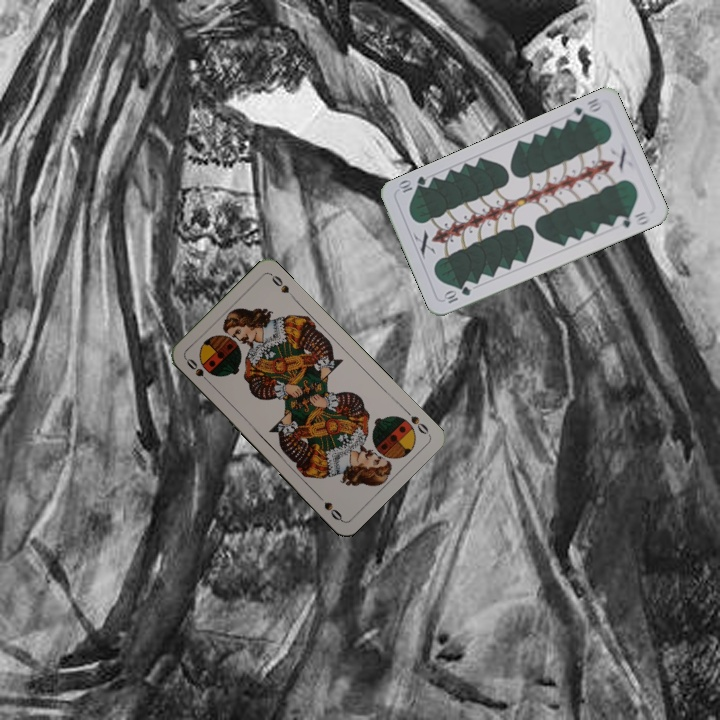G10: (565, 94, 605, 125), (440, 282, 473, 306)
SO: (182, 354, 214, 388), (400, 405, 431, 437)
